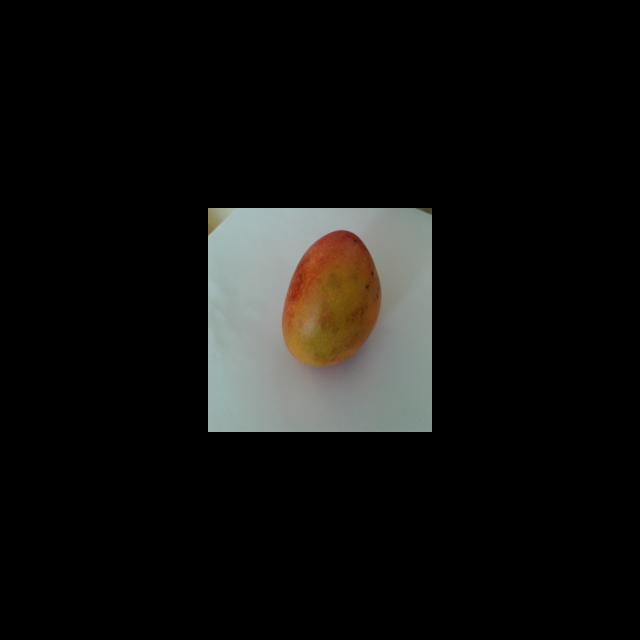Mango: (281, 229, 381, 367)
